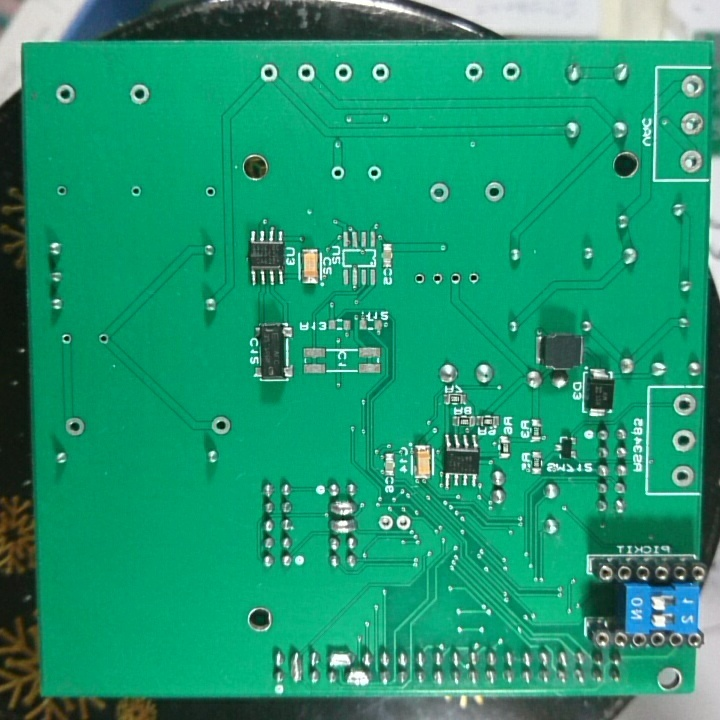F: (679, 109, 706, 137), (426, 180, 454, 207), (679, 73, 705, 101), (54, 81, 79, 109), (678, 147, 702, 176), (671, 392, 697, 418), (670, 461, 696, 486), (127, 80, 152, 106), (294, 60, 319, 86), (366, 61, 392, 86), (62, 414, 87, 439), (483, 180, 508, 205), (462, 59, 486, 85), (207, 415, 234, 438), (672, 429, 695, 455), (258, 61, 281, 86), (499, 60, 523, 83), (331, 61, 353, 86), (328, 163, 349, 184), (365, 163, 386, 184), (462, 269, 482, 290), (376, 512, 395, 534), (394, 513, 413, 534), (429, 269, 446, 291), (412, 269, 430, 289), (126, 183, 145, 201), (202, 182, 219, 201), (447, 268, 464, 286), (53, 183, 70, 200), (57, 330, 73, 348), (96, 330, 111, 348)
P: (342, 667, 374, 688), (287, 649, 305, 685), (327, 499, 359, 518), (326, 517, 358, 535), (326, 648, 354, 668)
